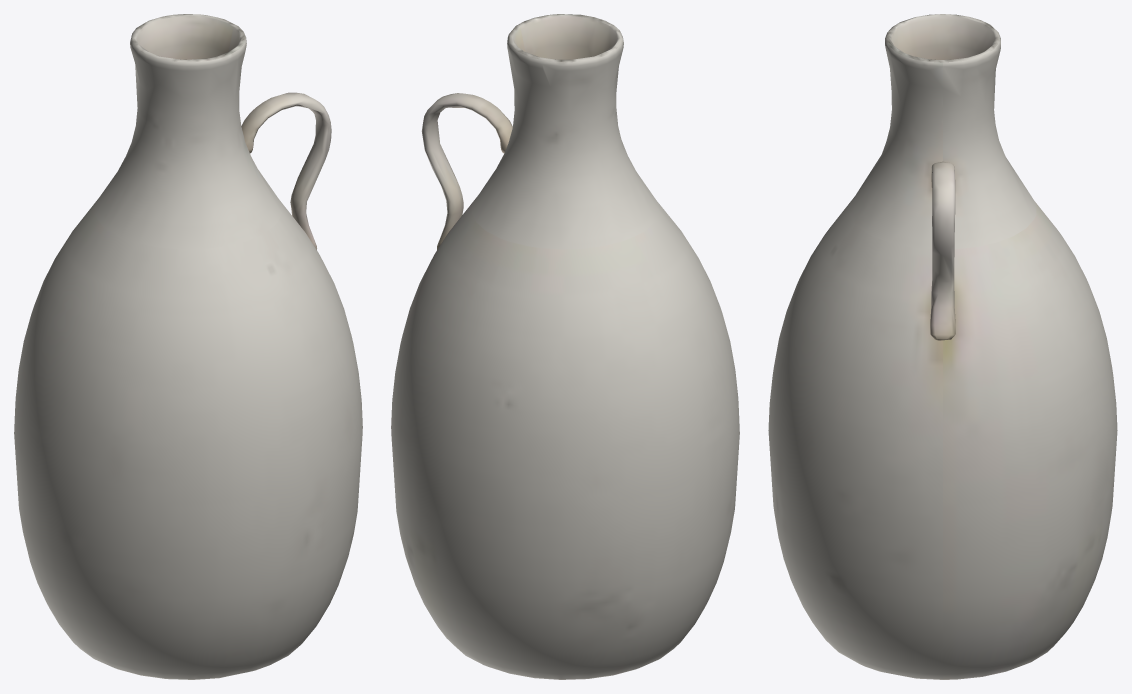
The model's file is ph_ceramic_vase_04.glb.
3 views of the same model, side by side, from view 1: azimuth 30°, elevation 25°; view 2: azimuth 150°, elevation 25°; view 3: azimuth 270°, elevation 25° (orthographic).
Visible parts, largest first — view 1: ceramic_vase_04; view 2: ceramic_vase_04; view 3: ceramic_vase_04.
Part boxes in pixels (x1,y1,x2,y2): ceramic_vase_04: [14, 14, 362, 679]; ceramic_vase_04: [391, 14, 739, 679]; ceramic_vase_04: [768, 14, 1117, 679].
Size of the model in its own units: 0.1811 by 0.3419 by 0.1811.
1 material, 1 textured.
